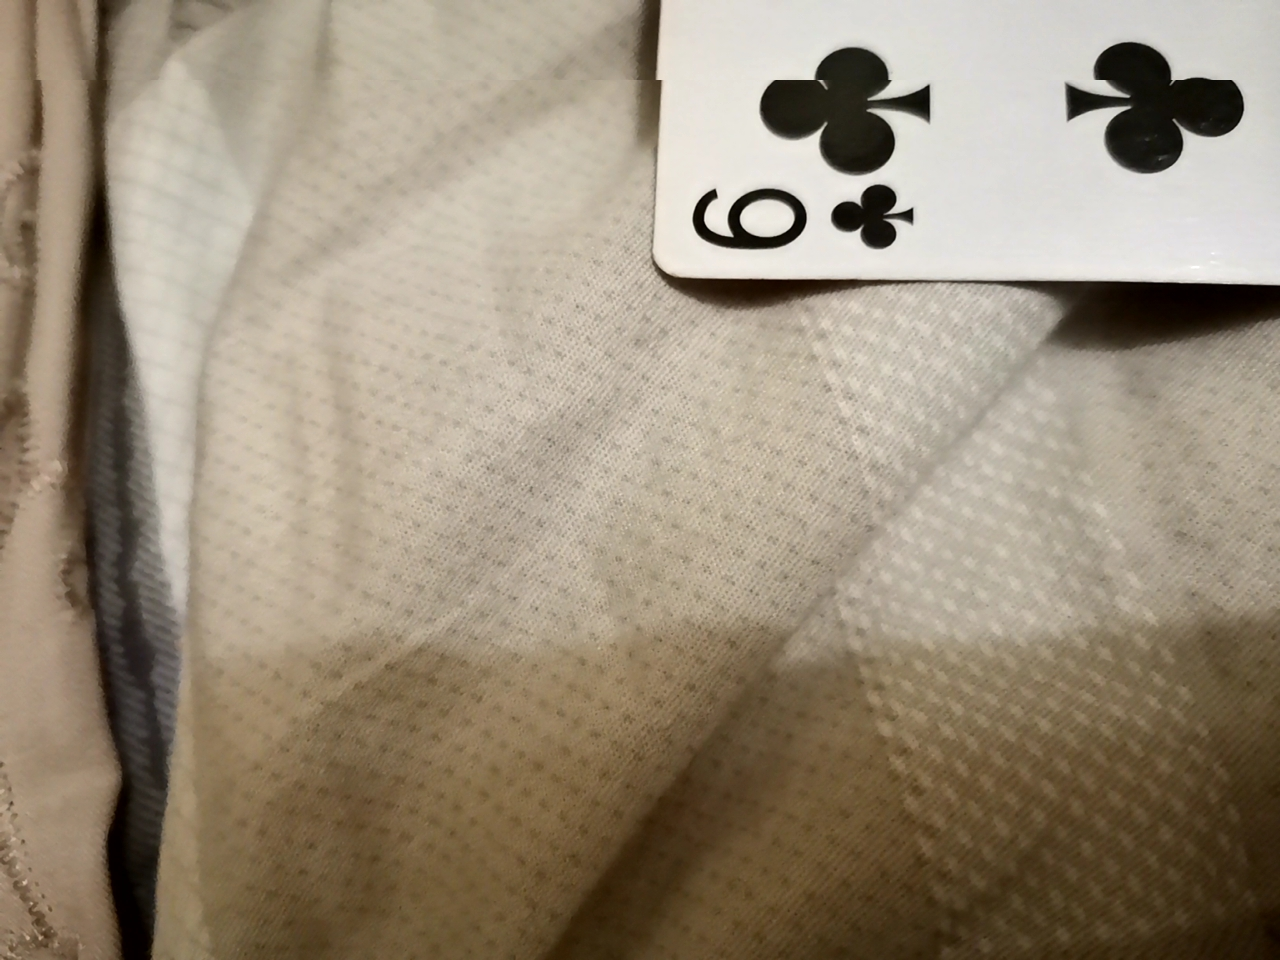mh 6: (619, 2, 1262, 314)
